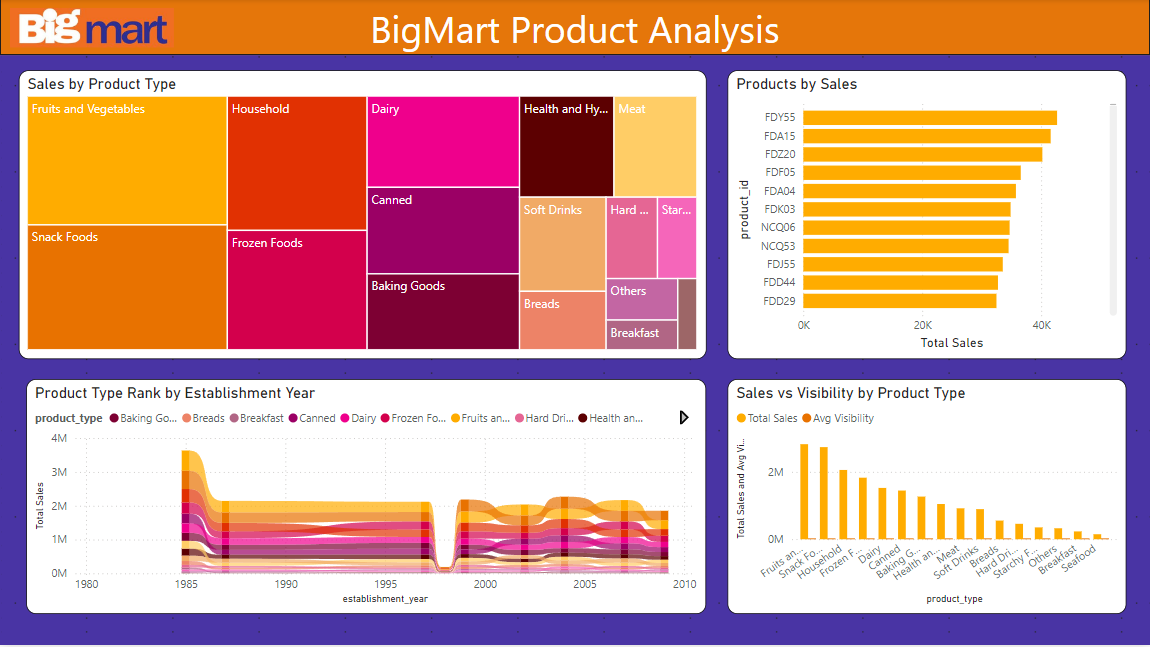

Layout of this report page (visuals, bound fields, positions):
{"tool":"powerbi","page":{"name":"Product Analysis","canvas":[1280,720],"ordinal":2},"visuals":[{"type":"treemap","title":"Sales by Product Type","fields":{"Group":["warehouse vw_sales_overview.product_type"],"Values":["Measures (2).Total Sales"]},"box":[20.9,79.3,765.2,321.4],"z":0},{"type":"barChart","title":"Products by Sales","fields":{"Y":["Measures (2).Total Sales"],"Category":["warehouse vw_sales_overview.product_id"]},"box":[809.7,79.3,443.8,321.4],"z":1000},{"type":"lineClusteredColumnComboChart","title":"Sales vs Visibility by Product Type","fields":{"Category":["warehouse vw_sales_overview.product_type"],"Y":["Measures (2).Total Sales","Measures (2).Avg Visibility"]},"box":[809.7,423,443.8,261.6],"z":2000},{"type":"ribbonChart","title":"Product Type Rank by Establishment Year","fields":{"Category":["warehouse vw_sales_overview.establishment_year"],"Series":["warehouse vw_sales_overview.product_type"],"Y":["Measures (2).Total Sales"]},"box":[29.2,423,756.9,261.6],"z":3000},{"type":"shape","box":[0,0,1280,62.6],"z":4000},{"type":"image","box":[11.1,8.3,182.3,47.3],"z":5000}]}

Visuals, with their boxes in screenshot pixels (x1, y1, x2, y2), scaled from the page's 1280x720 canvas onto the 1150x647 screenshot:
"Sales by Product Type" treemap: {"left": 19, "top": 71, "right": 706, "bottom": 360}
"Products by Sales" barChart: {"left": 727, "top": 71, "right": 1126, "bottom": 360}
"Sales vs Visibility by Product Type" lineClusteredColumnComboChart: {"left": 727, "top": 380, "right": 1126, "bottom": 615}
"Product Type Rank by Establishment Year" ribbonChart: {"left": 26, "top": 380, "right": 706, "bottom": 615}
shape: {"left": 0, "top": 0, "right": 1149, "bottom": 56}
image: {"left": 10, "top": 7, "right": 174, "bottom": 50}
